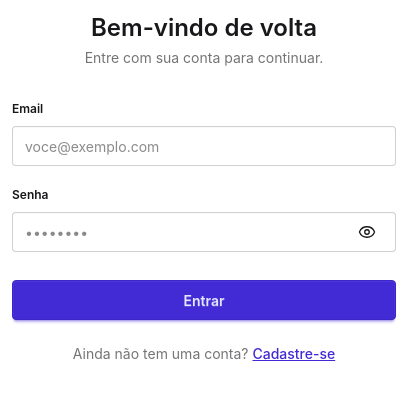
Test: LoginForm › shows an invalid email error for a malformed address
Type "not-an-email" into the field with id "email" at point(204, 146), box [12, 126, 396, 166]
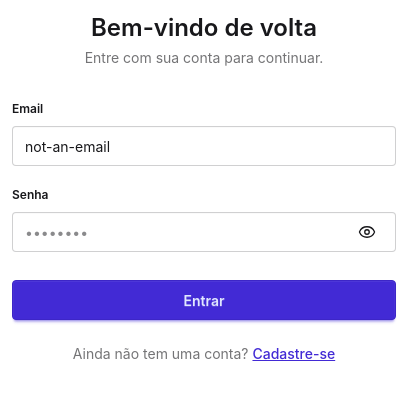
Leave the field with id "email", box [12, 126, 396, 166]
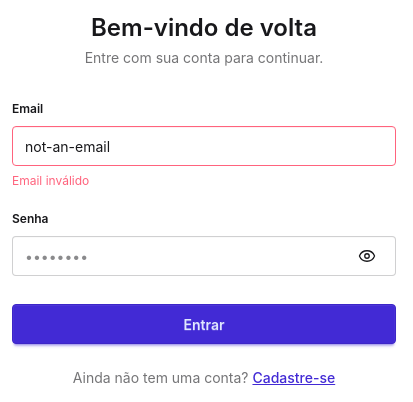
Expected: the text "Email inválido" is shown, [12, 173, 89, 188]
